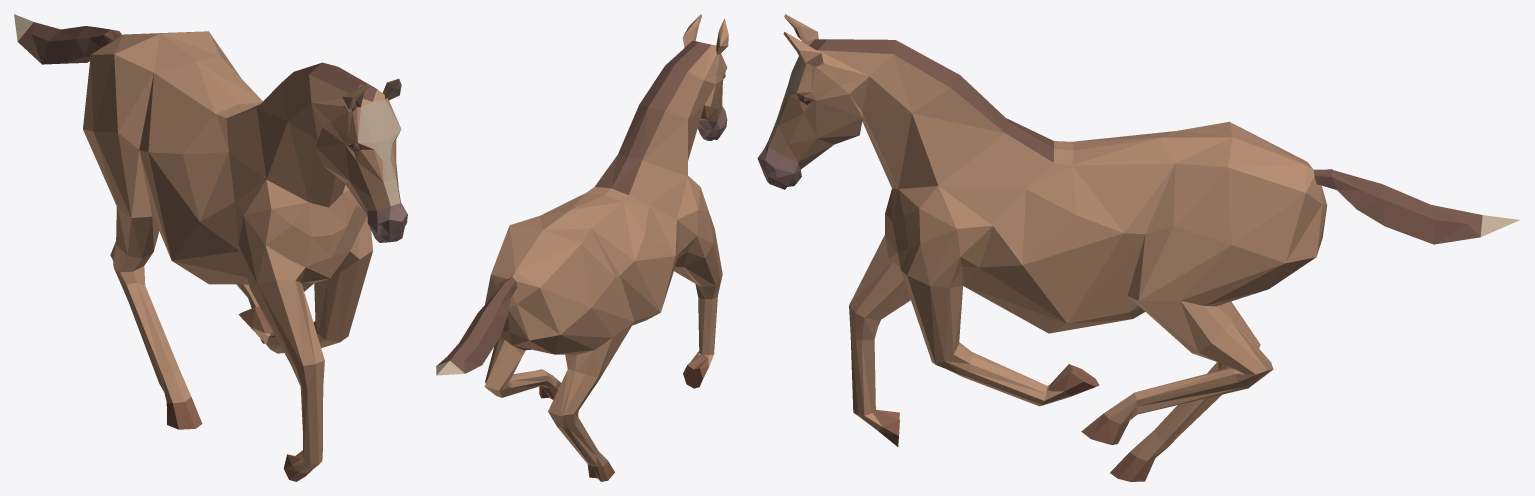
File: Horse.glb
3 renders of one model, left to right at view 1: azimuth 30°, elevation 25°; view 2: azimuth 150°, elevation 25°; view 3: azimuth 270°, elevation 25°, orthographic. The views are drawn at different scales.
Parts seen in each view (by area): view 1: mesh_0; view 2: mesh_0; view 3: mesh_0.
Boxes of the visible parts, x1,y1,x2,y2 form: mesh_0: (14,14,407,481); mesh_0: (436,14,728,481); mesh_0: (757,14,1519,481).
Size of the model in its own units: 64.89 by 188 by 277.
